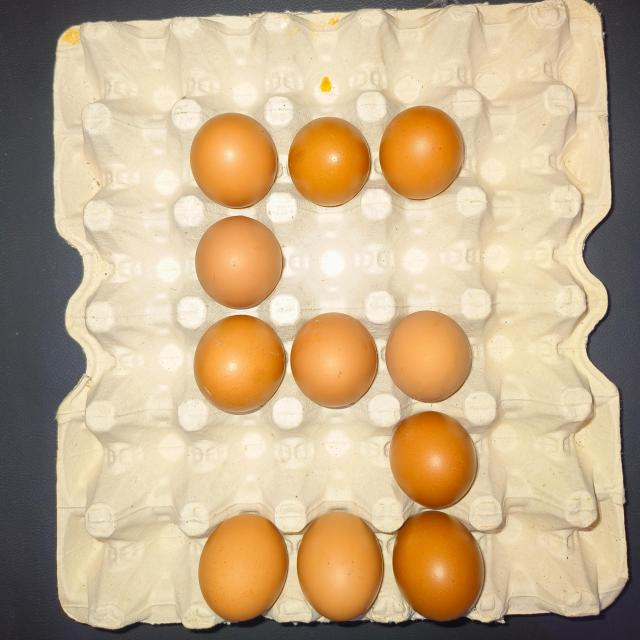Eggs: (286, 494, 385, 632), (390, 508, 491, 634), (182, 308, 282, 415), (198, 507, 286, 626), (184, 110, 280, 215), (191, 211, 289, 305), (295, 305, 379, 405), (395, 407, 484, 499), (292, 116, 378, 208), (381, 314, 461, 404), (388, 104, 460, 200)
